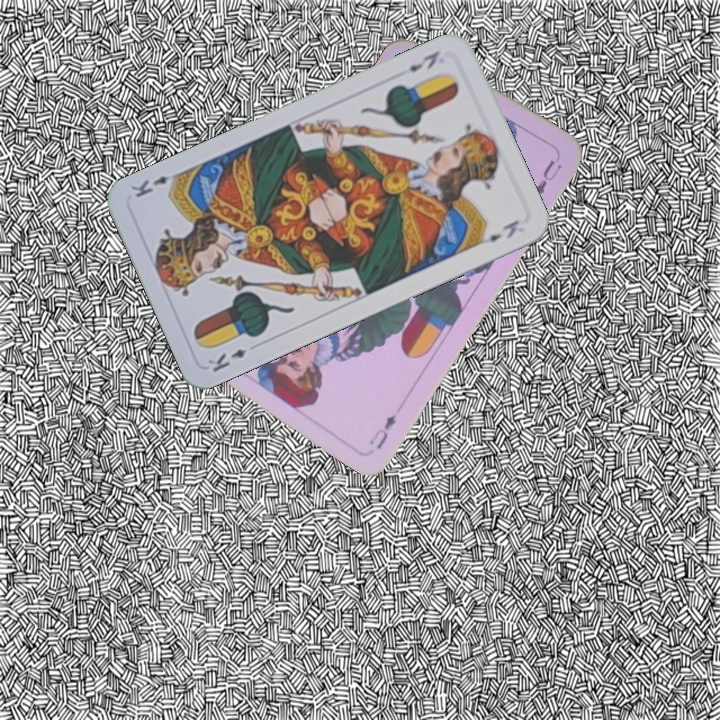EK: (203, 344, 249, 375), (404, 46, 442, 74)
EU: (365, 410, 399, 452)
